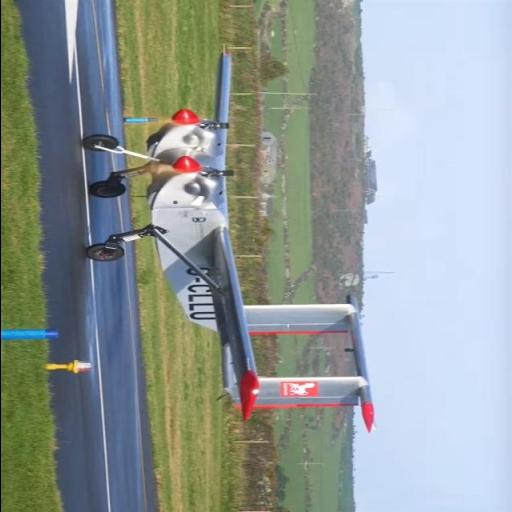uav: (76, 49, 383, 456)
